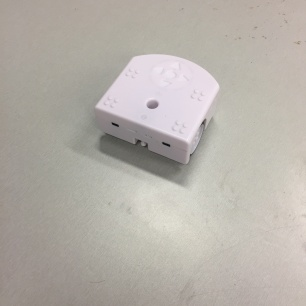thymio: (90, 46, 223, 173)
